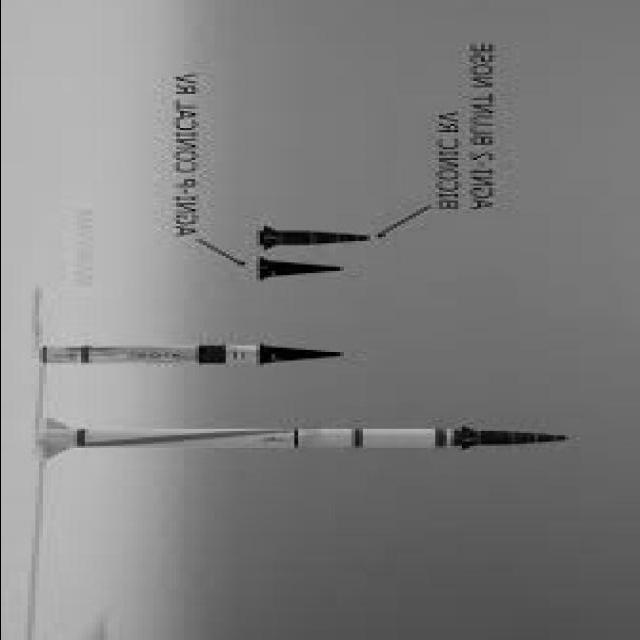Missile: (34, 416, 575, 463), (40, 341, 355, 374)
